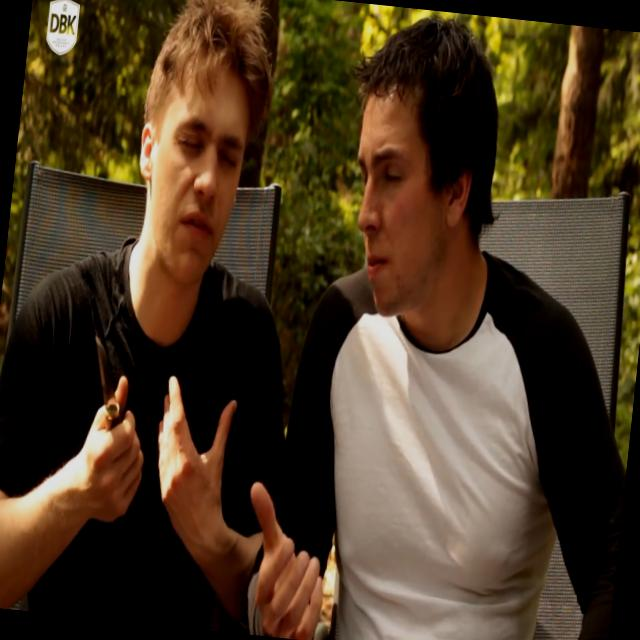knife: (63, 314, 163, 498)
